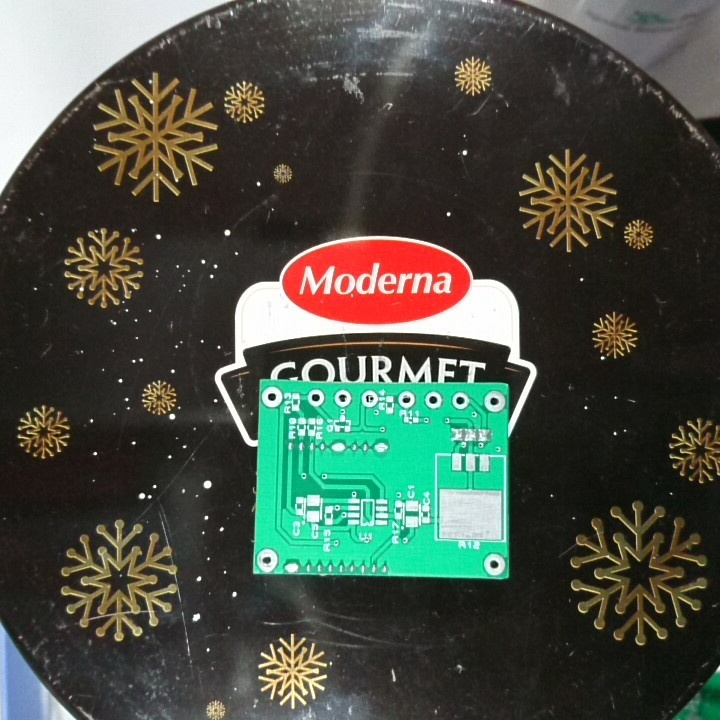F: (255, 546, 281, 574), (482, 389, 507, 414), (482, 552, 507, 577), (260, 384, 284, 409), (305, 386, 327, 409), (332, 388, 354, 410), (423, 389, 445, 411), (449, 390, 470, 411), (358, 388, 378, 409), (396, 389, 417, 409)
P: (371, 439, 391, 457), (282, 558, 303, 573), (328, 440, 348, 455)
